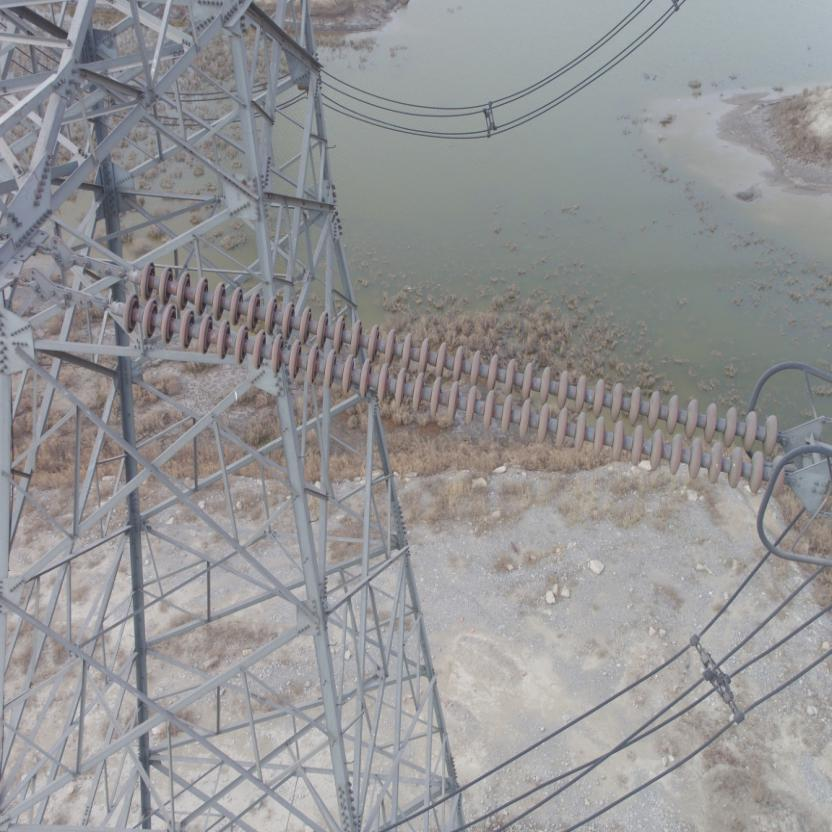insulator: (90, 256, 804, 504)
